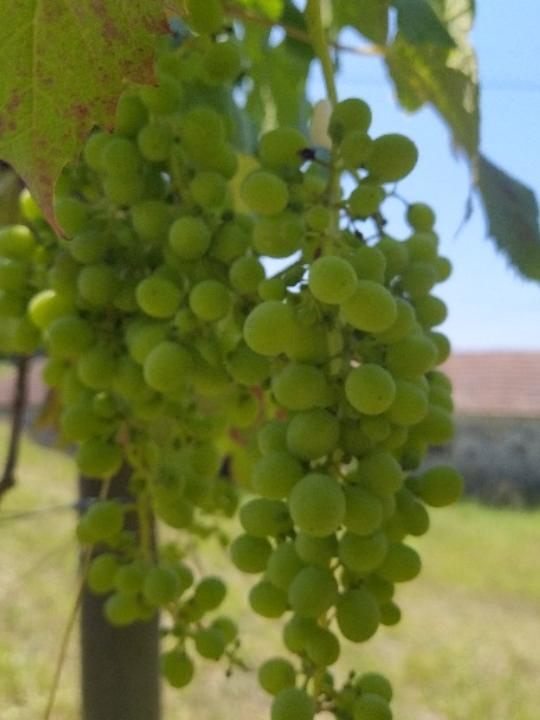grape: (0, 0, 257, 689), (238, 96, 467, 720)
